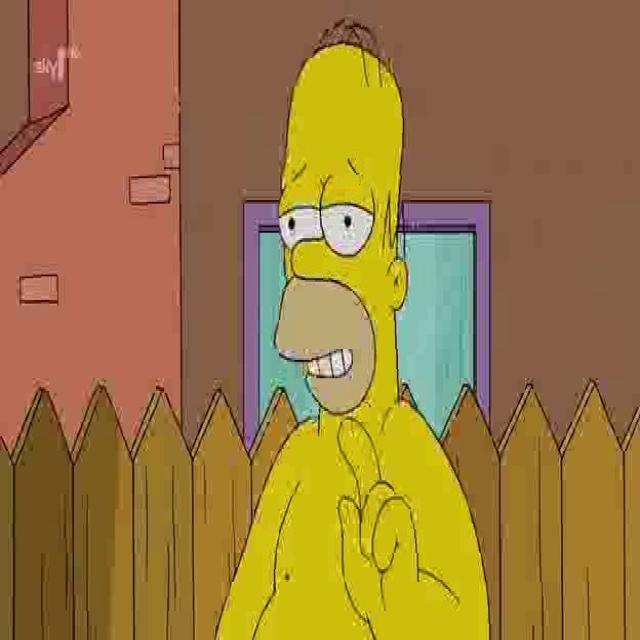Homer Simpson: (271, 20, 410, 431)
